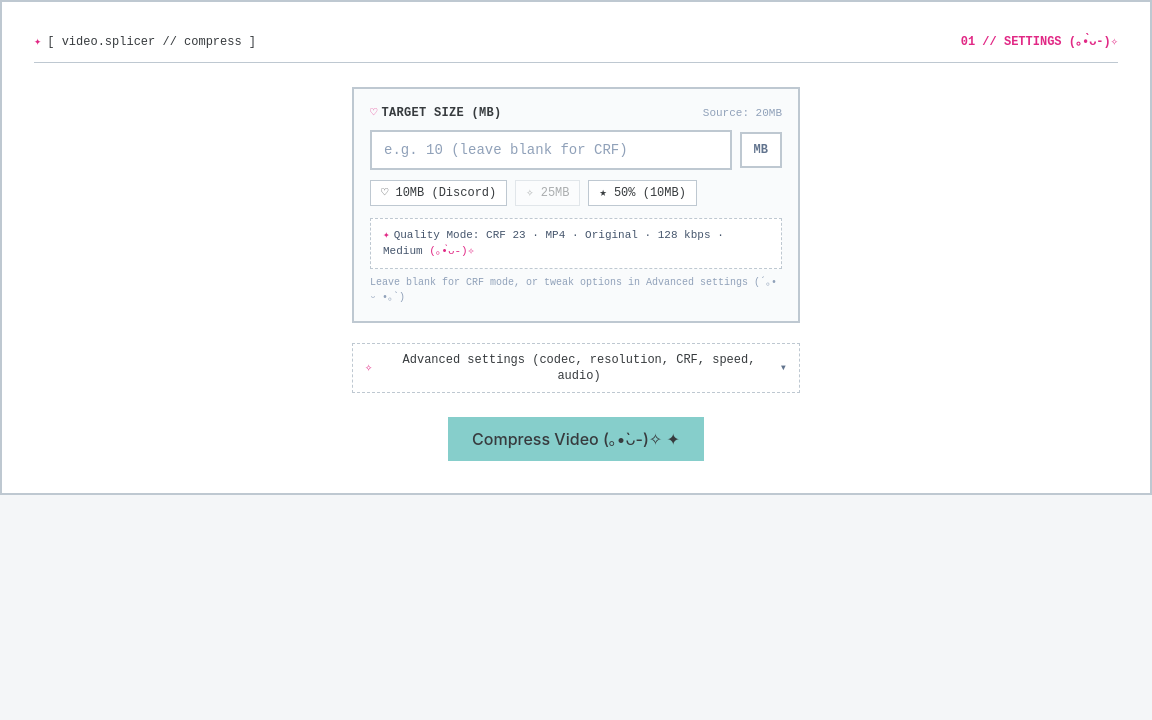
Test: CompressionPanel › target size MB mode and advanced settings drawer › keeps advanced settings collapsed by default and sends targetSizeBytes when a MB target is set
Later steps or results of the test are not shown.
Check: the button with test id "target-chip-25mb" is disabled, box [515, 180, 580, 206]
Click the button with test id "target-chip-10mb". click: coordinates (439, 192)
box: [370, 180, 507, 206]
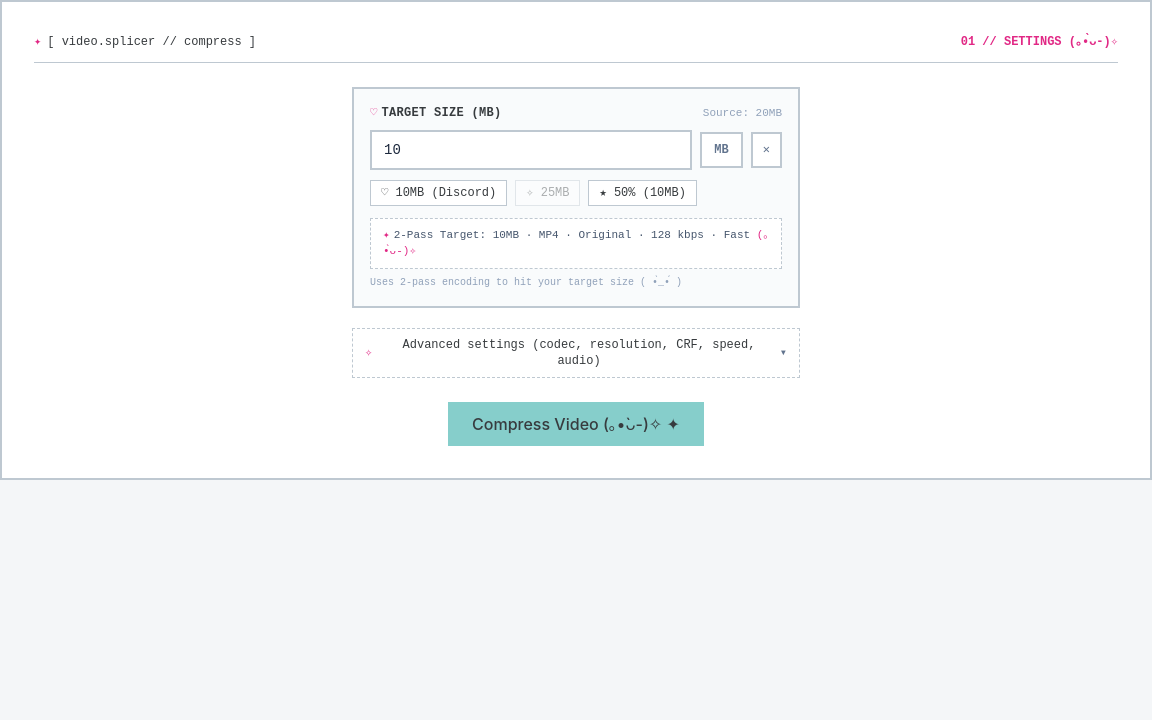
Check: the field with test id "target-size-input" holds "10", box [370, 130, 692, 170]
Check: the element with test id "compression-active-summary" shows "2-Pass Target: 10MB", box [394, 228, 519, 240]
